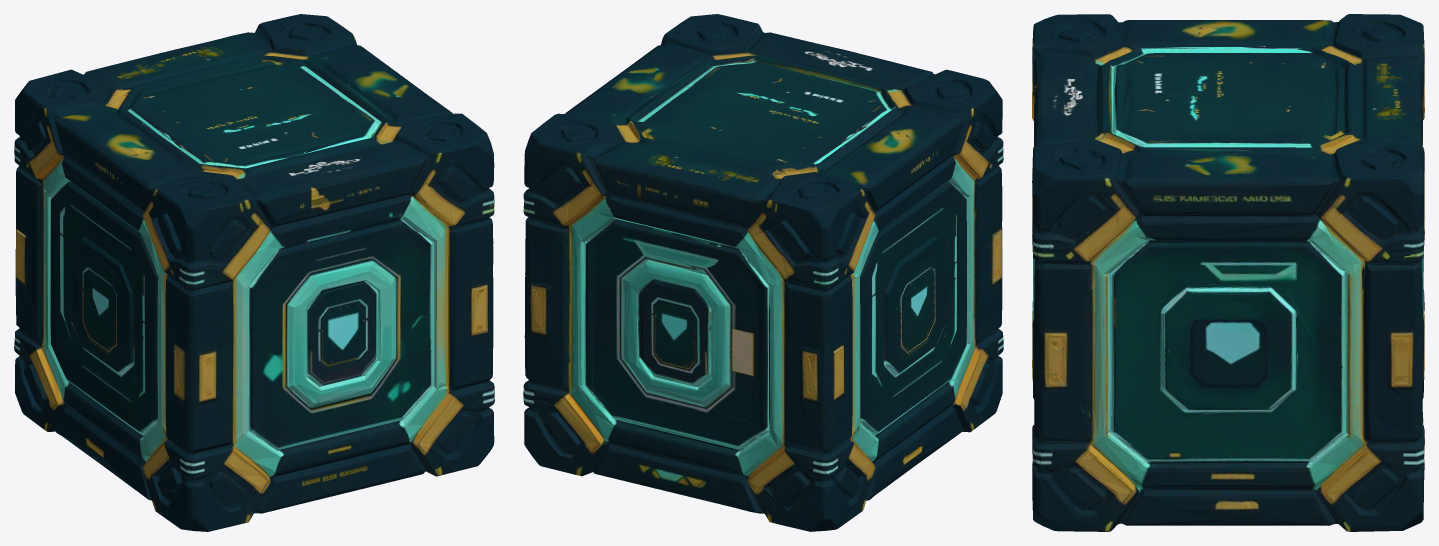
The model's file is prop-crate.glb.
3 views of the same model, side by side, from view 1: azimuth 30°, elevation 25°; view 2: azimuth 150°, elevation 25°; view 3: azimuth 270°, elevation 25° (orthographic). The views are drawn at different scales.
Visible parts, largest first — view 1: material; view 2: material; view 3: material.
Boxes of the visible parts, x1,y1,x2,y2 form: material: (14, 14, 494, 531); material: (523, 14, 1003, 531); material: (1032, 14, 1424, 531).
Size of the model in its own units: 0.7255 by 0.727 by 0.7251.
1 material, 1 textured.
